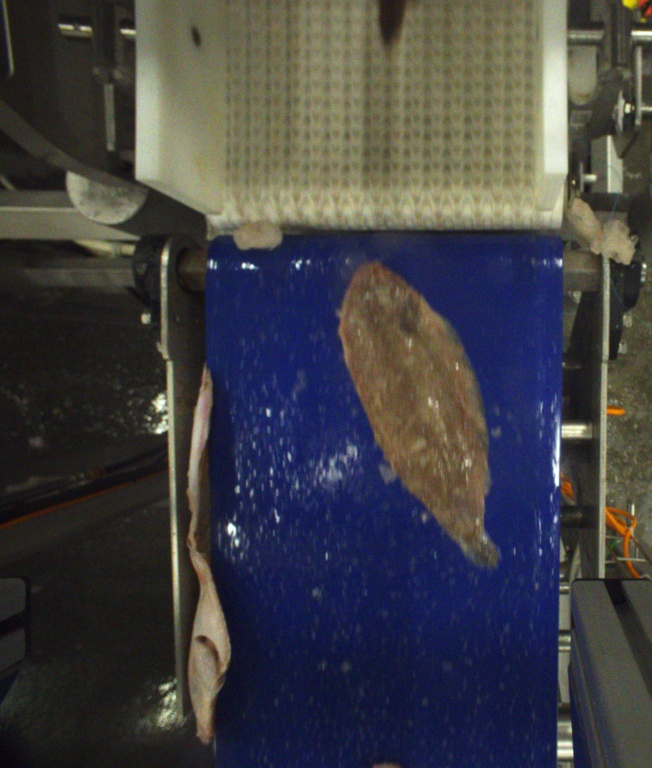SOL: (340, 261, 508, 571)
